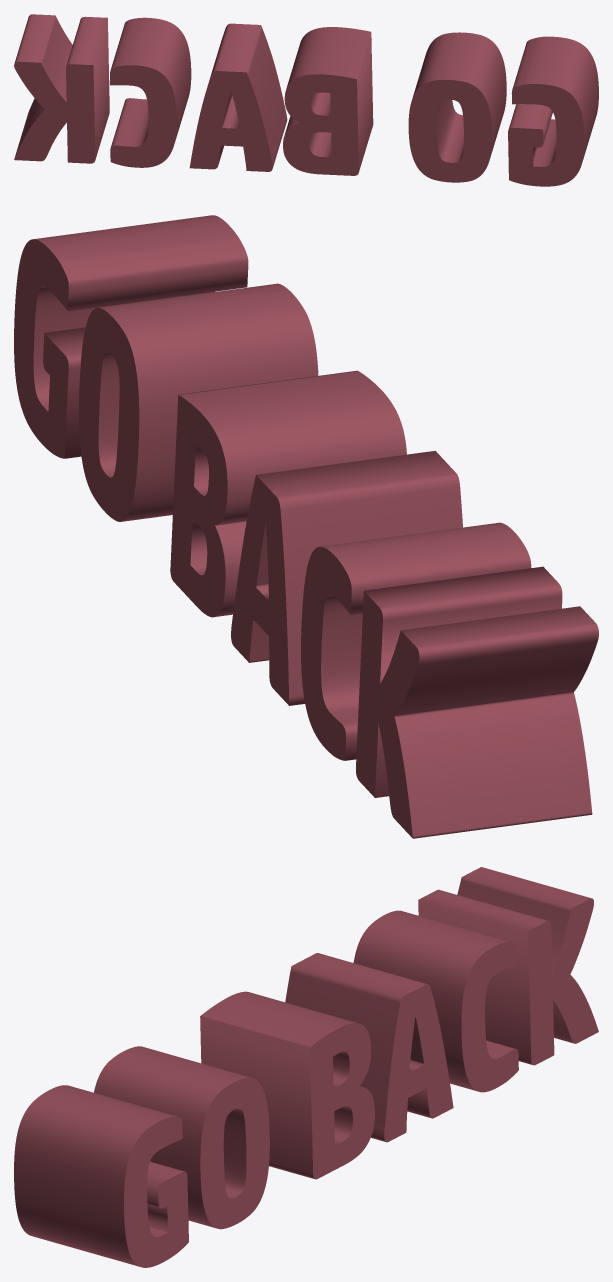
The model's file is goback.fbx.
The picture shows the model from 3 angles, top to bottom: view 1: azimuth 30°, elevation 25°; view 2: azimuth 150°, elevation 25°; view 3: azimuth 270°, elevation 25°; orthographic projection. The views are drawn at different scales.
Parts seen in each view (by area): view 1: PlayButton.004; view 2: PlayButton.004; view 3: PlayButton.004.
Part boxes in pixels (x1,y1,x2,y2): PlayButton.004: (14,14,598,186); PlayButton.004: (14,215,598,838); PlayButton.004: (14,867,598,1267).
Bounding box in the file's own units: 249 × 59.5 × 210.
